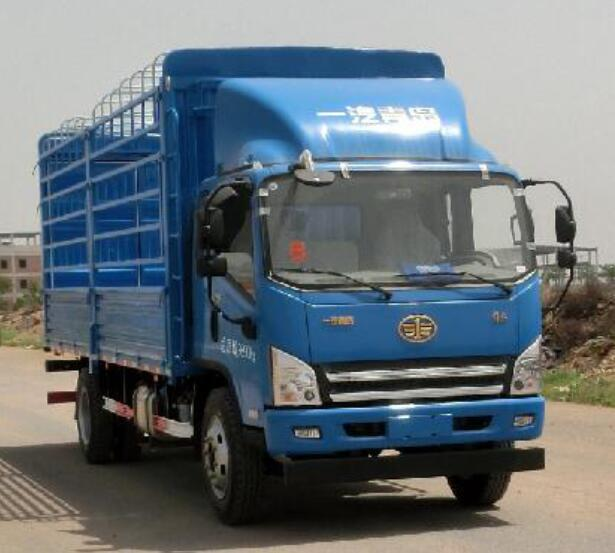smalltruck: (30, 48, 574, 515)
